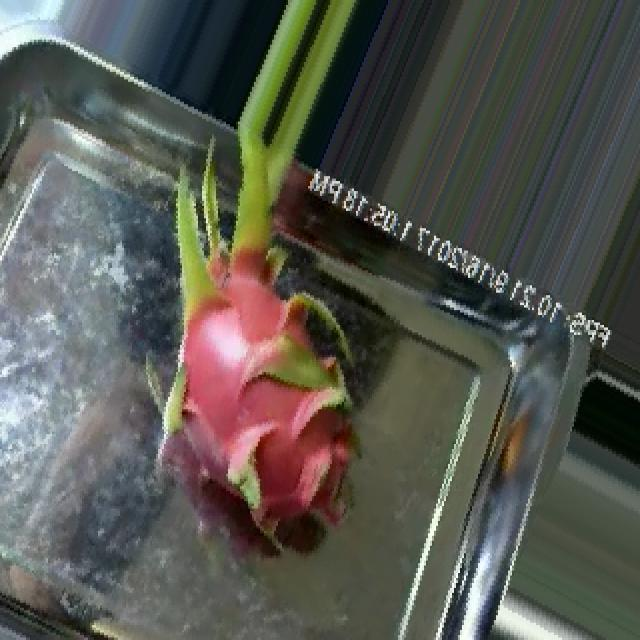fruit: (42, 107, 454, 568)
